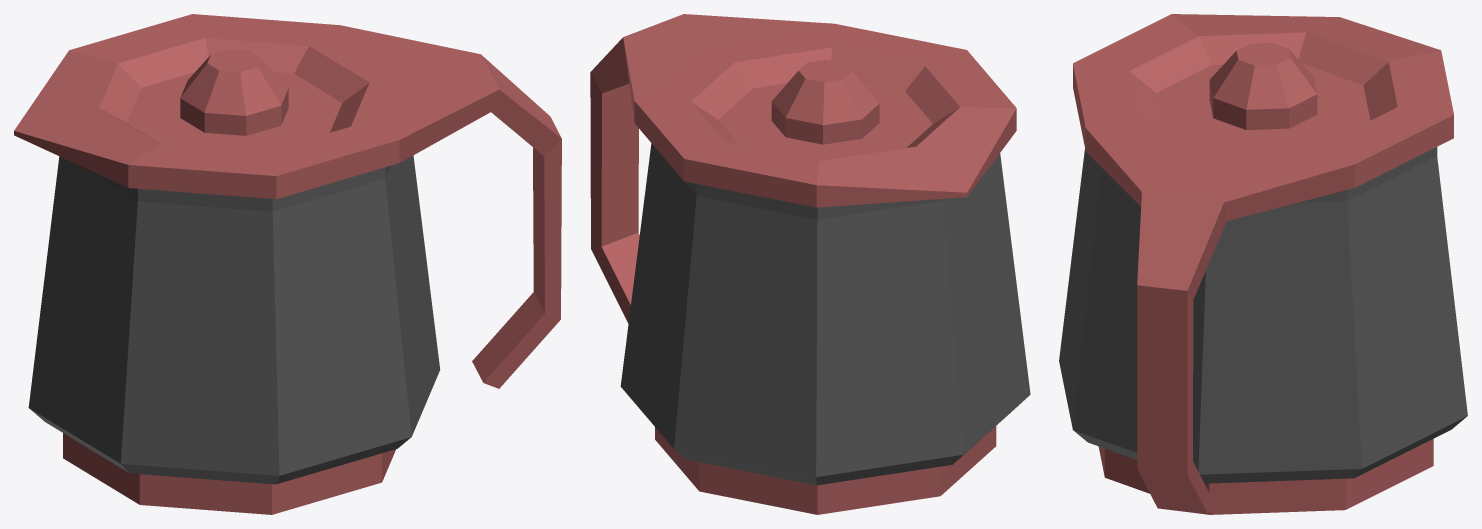
The model's file is Kitchen_Coffee_Pot.fbx.
3 renders of one model, left to right at view 1: azimuth 30°, elevation 25°; view 2: azimuth 150°, elevation 25°; view 3: azimuth 270°, elevation 25°, orthographic. The views are drawn at different scales.
Parts seen in each view (by area): view 1: Kitchen_Coffee_Pot; view 2: Kitchen_Coffee_Pot; view 3: Kitchen_Coffee_Pot.
Part boxes in pixels (x1=…): Kitchen_Coffee_Pot: x1=14, y1=14, x2=561, y2=514; Kitchen_Coffee_Pot: x1=590, y1=14, x2=1030, y2=514; Kitchen_Coffee_Pot: x1=1059, y1=14, x2=1467, y2=514.
Bounding box in the file's own units: 31.29 × 24.73 × 23.56.
